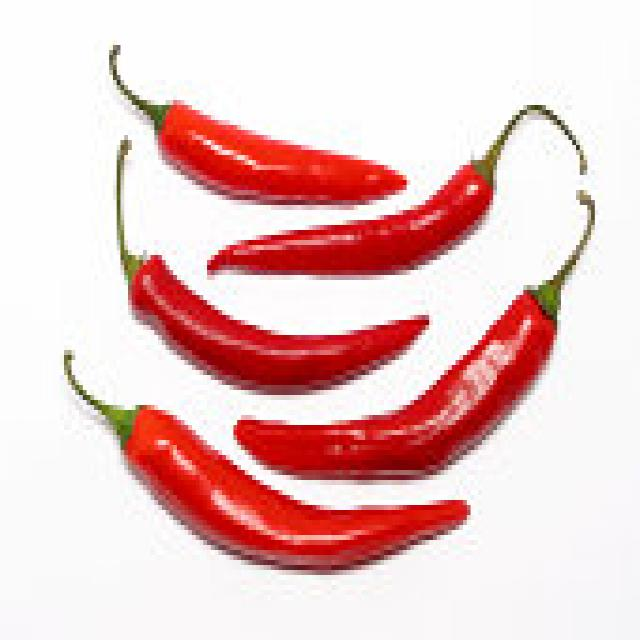red chili: (237, 190, 599, 478), (64, 355, 471, 570), (117, 140, 429, 388), (211, 105, 591, 275), (109, 45, 410, 202)
